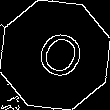O_SW: (24, 23, 86, 87)
